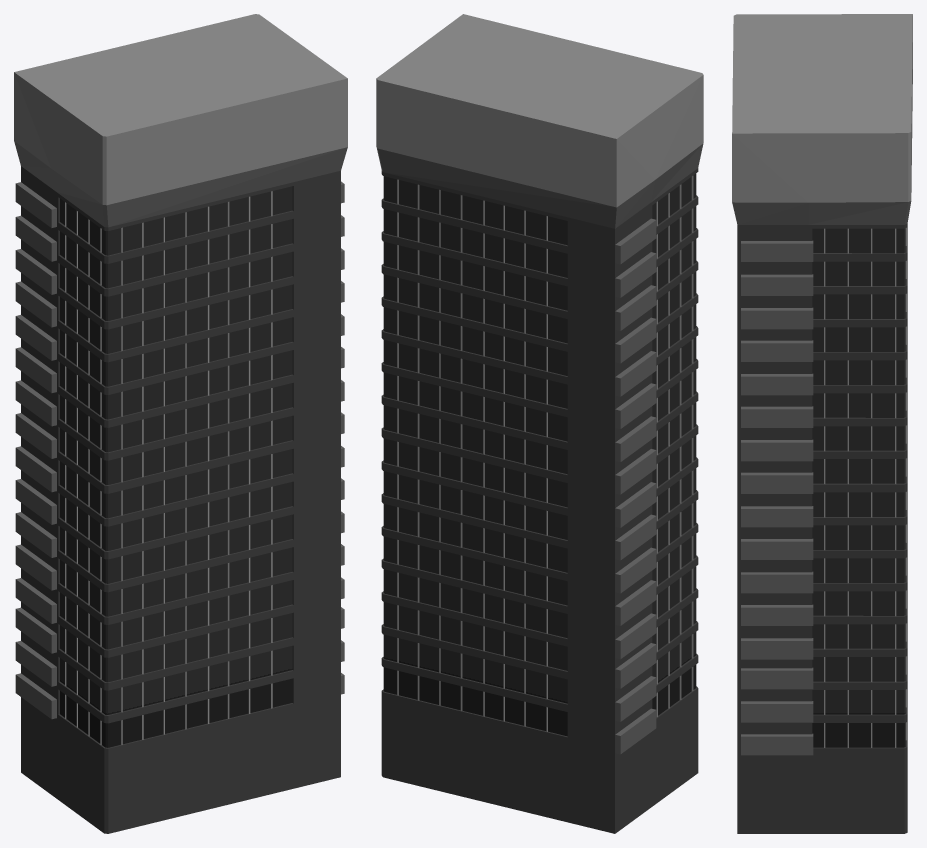
File: building_C.FBX
The picture shows the model from 3 angles, left to right: view 1: azimuth 30°, elevation 25°; view 2: azimuth 150°, elevation 25°; view 3: azimuth 270°, elevation 25°; orthographic projection.
Parts seen in each view (by area): view 1: factory_building_C, factory_building_C_window; view 2: factory_building_C, factory_building_C_window; view 3: factory_building_C, factory_building_C_window.
Boxes of the visible parts, x1,y1,x2,y2 form: factory_building_C: [14, 14, 347, 833]; factory_building_C_window: [60, 186, 292, 747]; factory_building_C: [376, 14, 703, 833]; factory_building_C_window: [383, 173, 696, 736]; factory_building_C: [732, 14, 912, 833]; factory_building_C_window: [812, 228, 905, 747].
Bounding box in the file's own units: 1111 × 3017 × 703.
